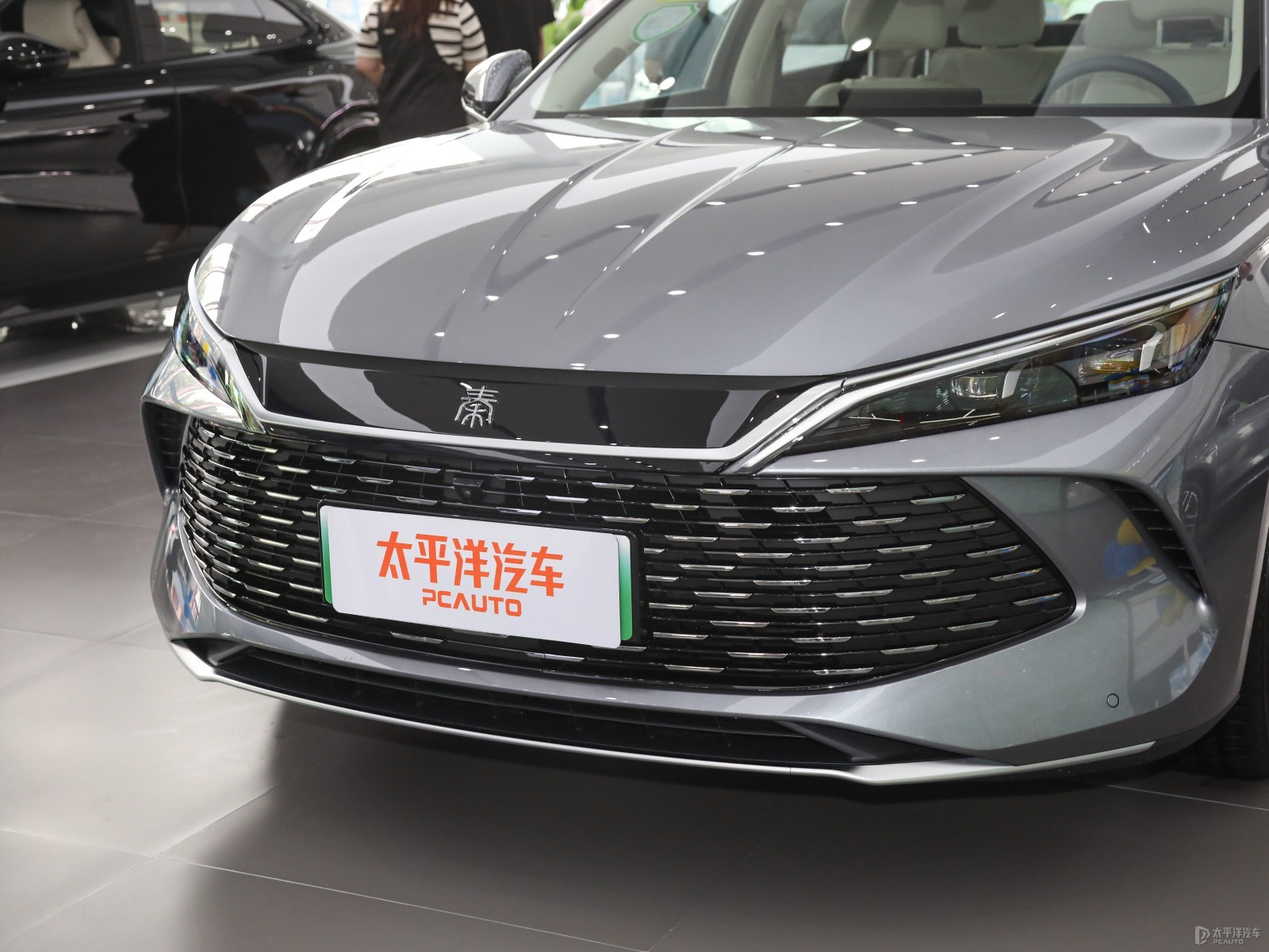BYD Qin: (454, 386, 498, 427)
